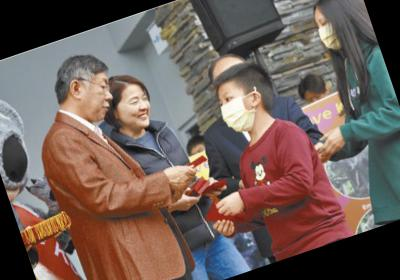with_mask: (214, 84, 262, 139), (313, 12, 346, 56)
without_mask: (77, 75, 122, 126), (116, 89, 158, 134)
